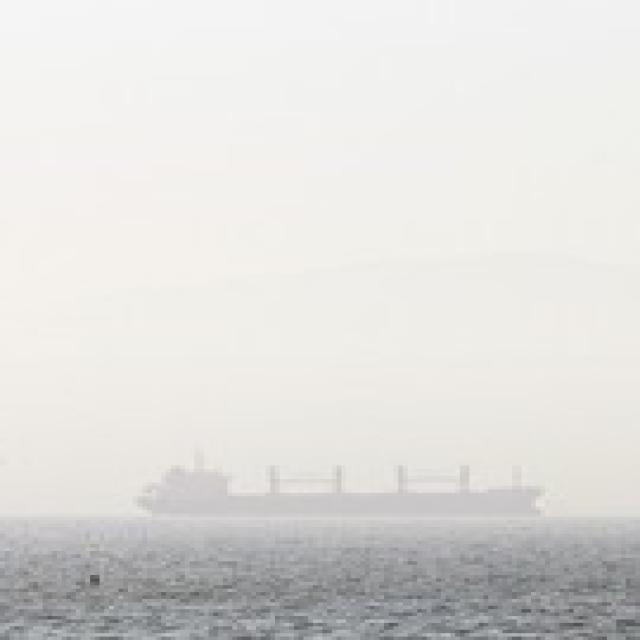cargoship: (128, 445, 546, 519)
